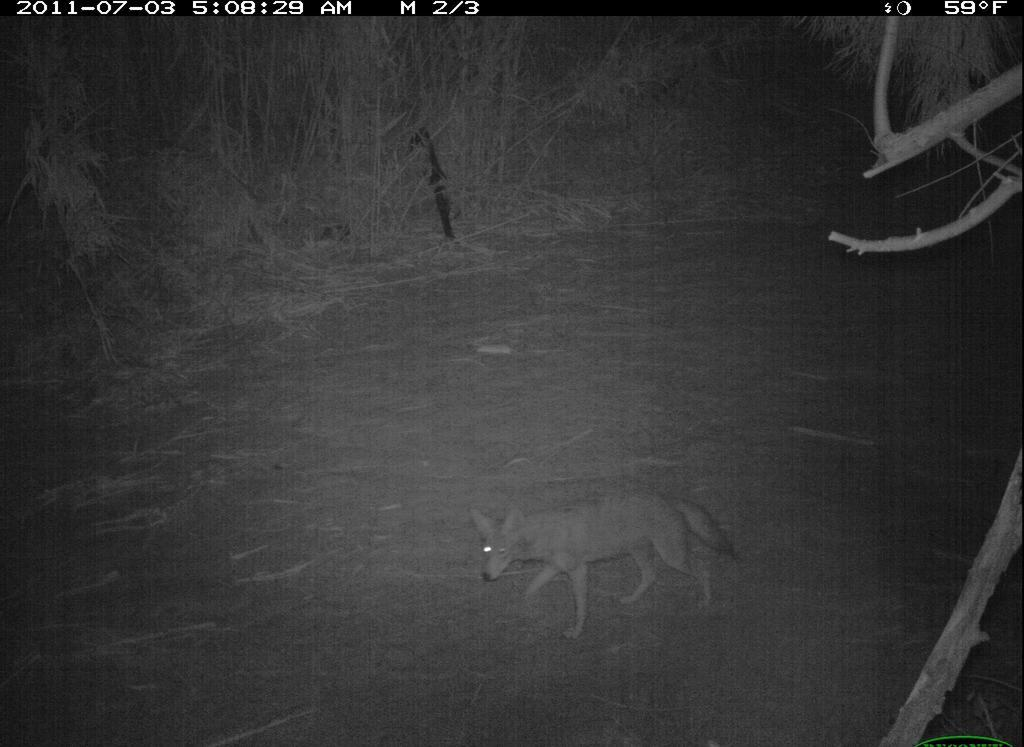coyote: (464, 486, 749, 646)
